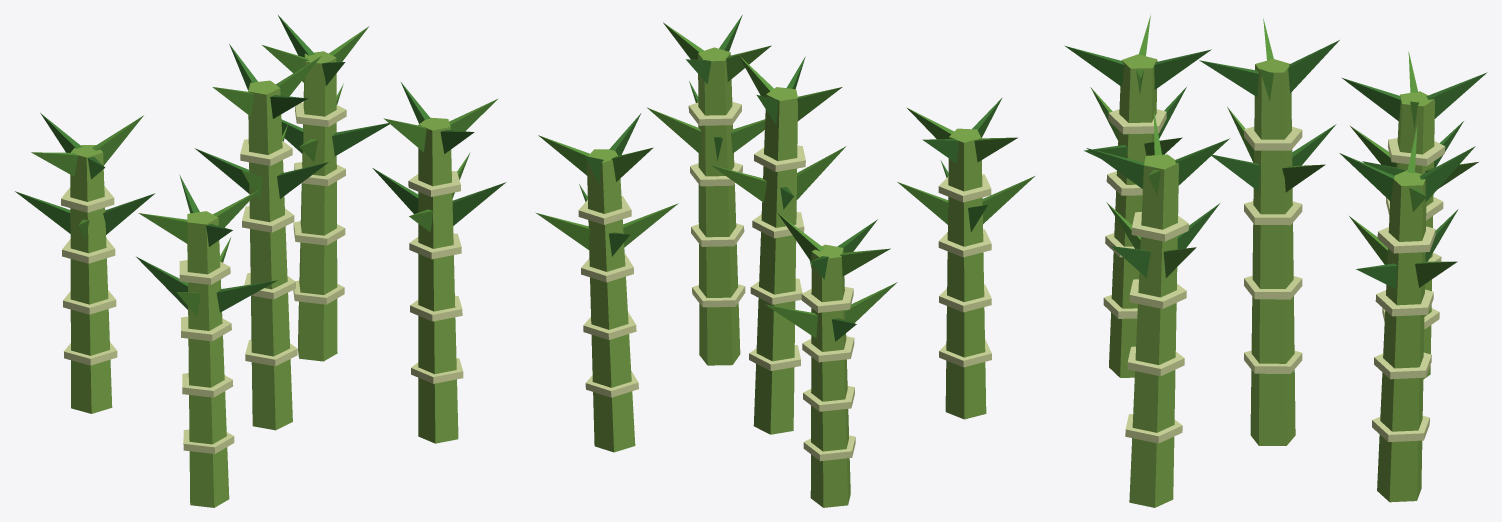
The model's file is bamboo-3.glb.
The picture shows the model from 3 angles, left to right: view 1: azimuth 30°, elevation 25°; view 2: azimuth 150°, elevation 25°; view 3: azimuth 270°, elevation 25°; orthographic projection. The views are drawn at different scales.
Visible parts, largest first — view 1: bamboo-3; view 2: bamboo-3; view 3: bamboo-3.
Boxes of the visible parts, x1,y1,x2,y2 form: bamboo-3: (15, 15, 506, 507); bamboo-3: (535, 15, 1034, 507); bamboo-3: (1064, 14, 1487, 507).
Bounding box in the file's own units: 0.6724 × 0.6428 × 0.6268.
Materials: 1 (1 with a texture image).
